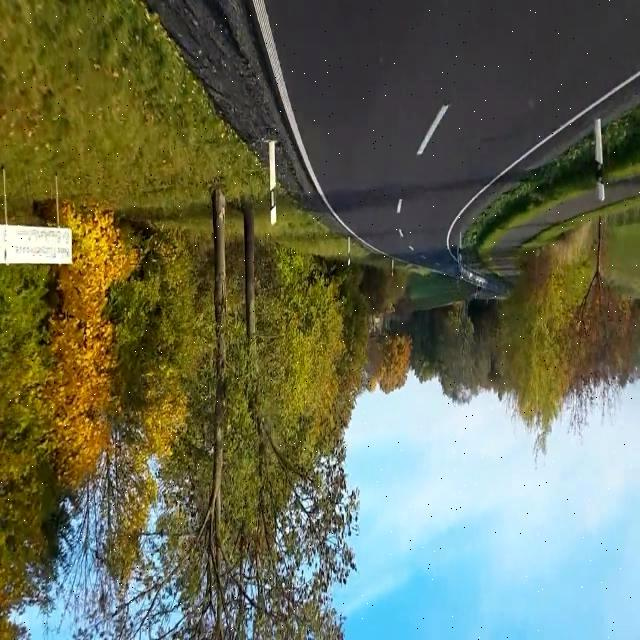lane: (252, 1, 386, 255), (448, 71, 639, 246), (417, 104, 449, 155)
road: (266, 1, 640, 272)
